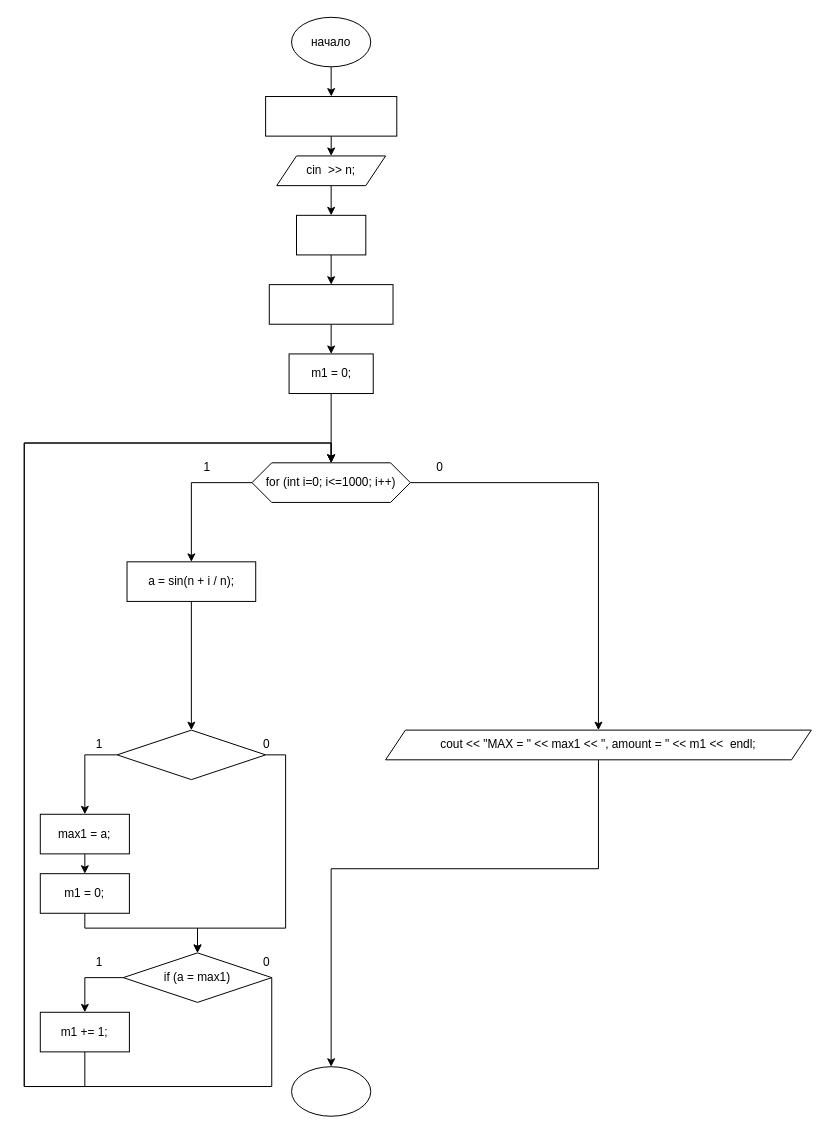
This 829x1134 diagram has some shape labels left out. Each missing label, with the centre of its shape:
"a = 0.0;" belongs at point 331,234.
"if (a > max1)" belongs at point 191,754.
"int n,m1,m2; double a,max1;" belongs at point 331,116.
"max1 = 0.0;" belongs at point 330,304.
"конец" belongs at point 331,1091.
